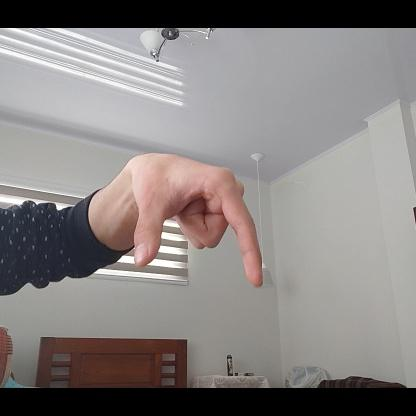Q: (133, 149, 266, 295)
